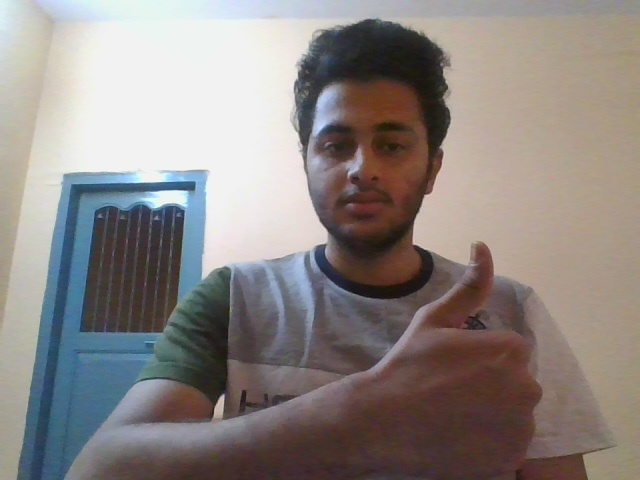Thumbsup: (375, 239, 545, 479)
